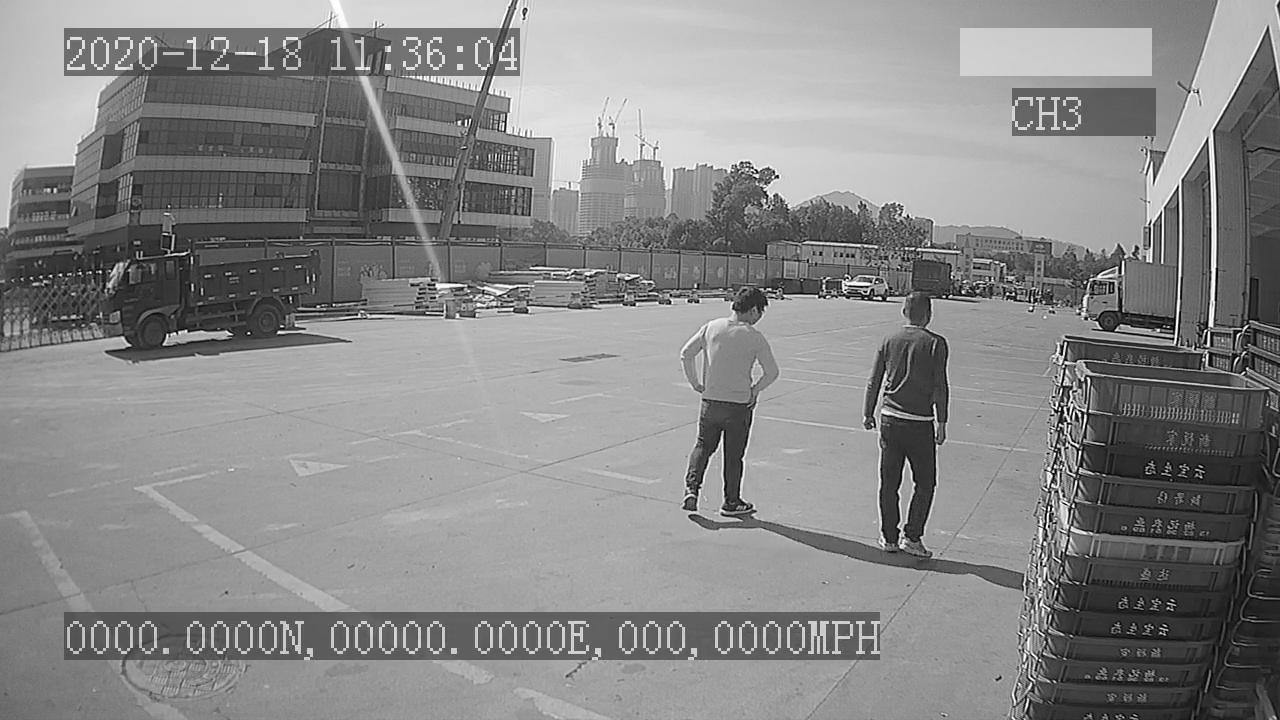person: (861, 290, 950, 558), (679, 283, 778, 515)
